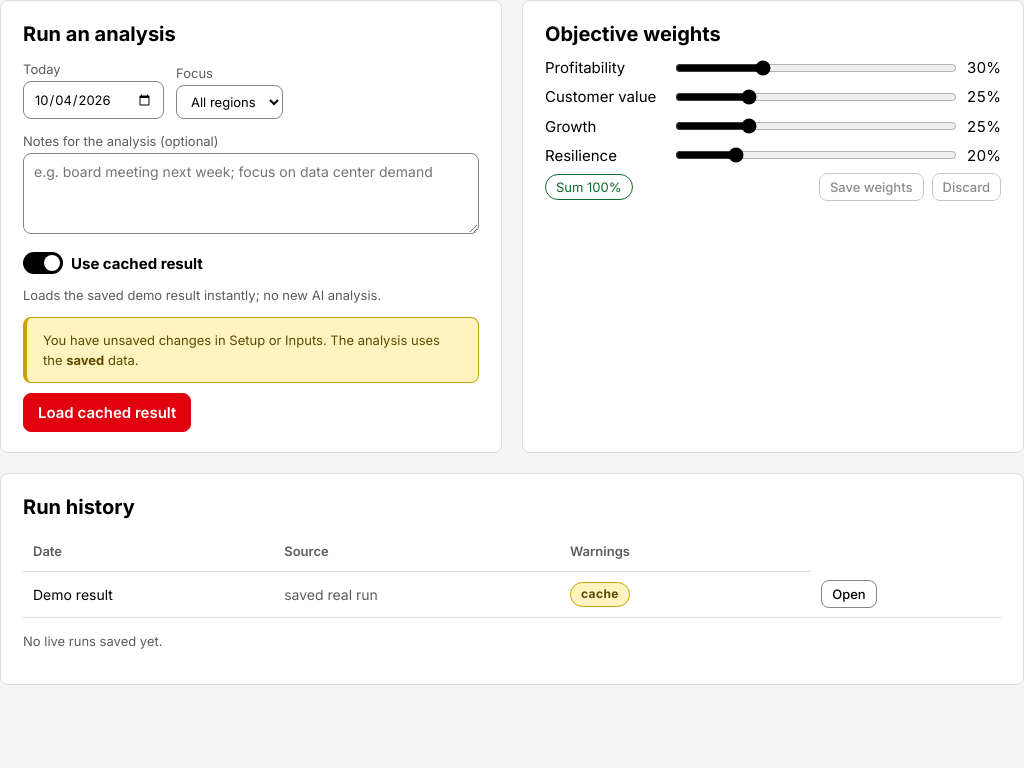
Scenario: RunTab weights › explains the cached switch and live runs
The width and height of the screenshot is (1024, 768).
Expected: the text "Loads the saved demo result instantly; no new AI analysis." is shown, left=23, top=287, right=381, bottom=303
What coordinates should you click on to do the following:
click the switch
I would click on:
 (43, 264)
Its box is left=23, top=252, right=63, bottom=274.
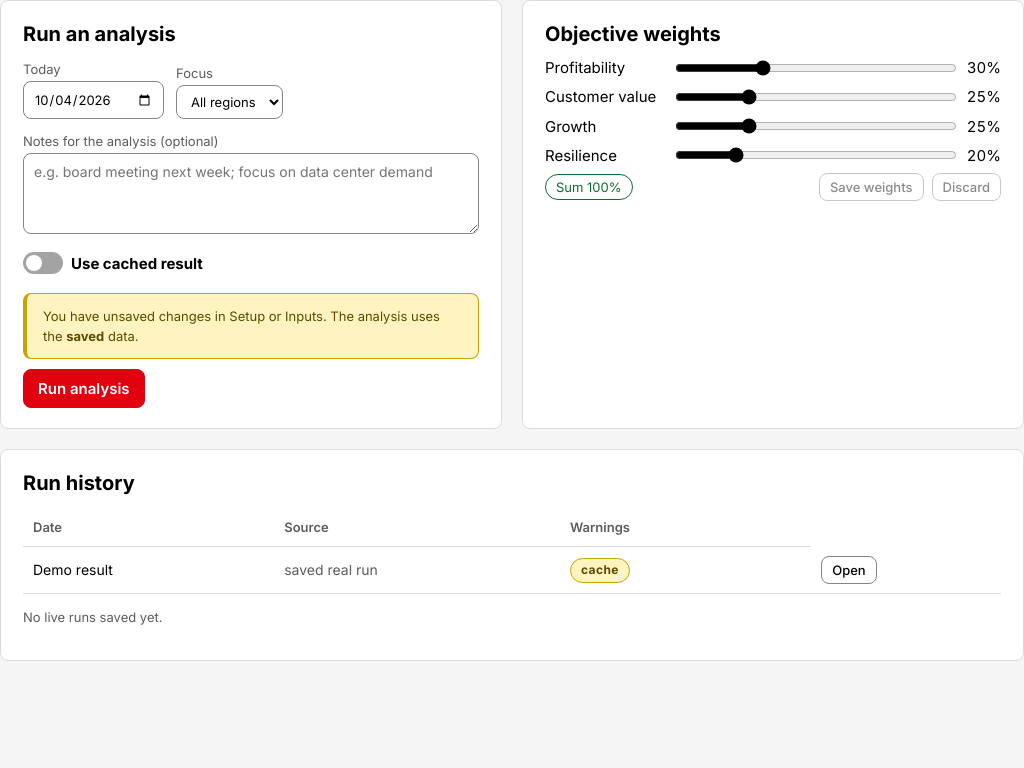
Expected: the text "uses the" shows "saved data", left=23, top=293, right=479, bottom=359
Result: the button "Run analysis" is shown at left=23, top=369, right=145, bottom=408
